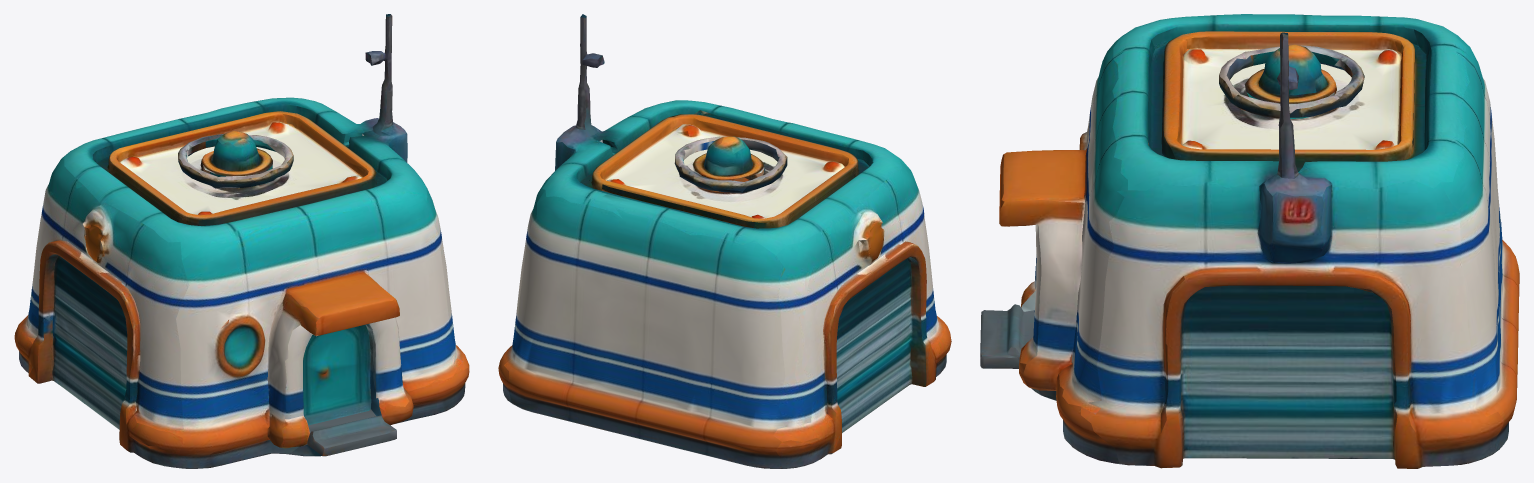
Rendered from safety_depot.glb.
3 views of the same model, side by side, from view 1: azimuth 30°, elevation 25°; view 2: azimuth 150°, elevation 25°; view 3: azimuth 270°, elevation 25° (orthographic). The views are drawn at different scales.
Parts seen in each view (by area): view 1: safety_depot; view 2: safety_depot; view 3: safety_depot.
Boxes of the visible parts, <box> form: safety_depot: <box>14,14,469,468</box>; safety_depot: <box>498,14,951,468</box>; safety_depot: <box>980,14,1519,468</box>.
Size of the model in its own units: 0.9088 by 0.8711 by 1.
1 material, 1 textured.
